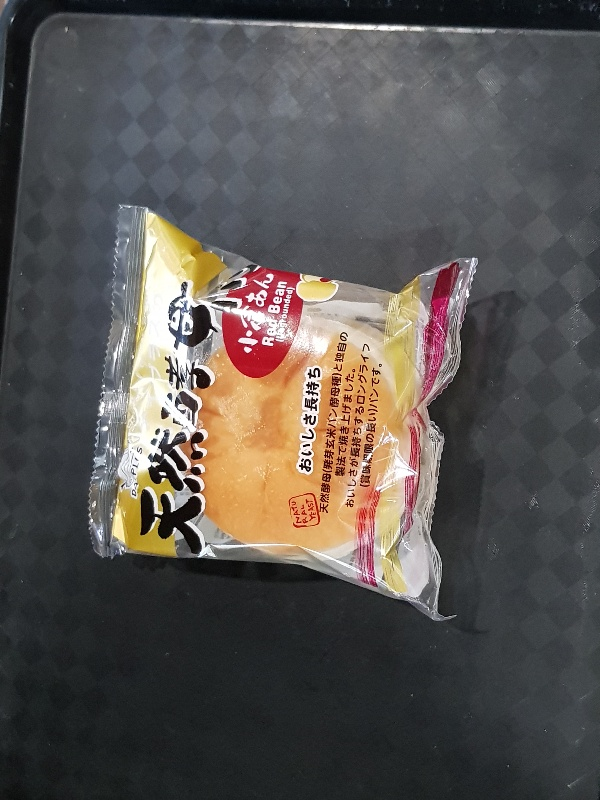Dayplus Red Bean: (86, 203, 478, 624)
